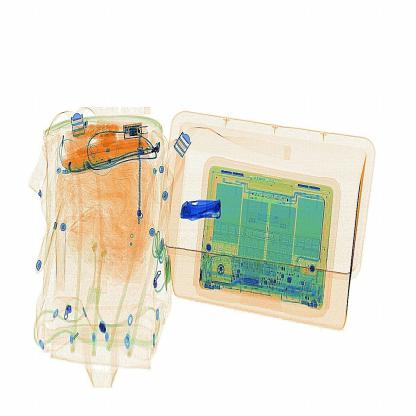knife: (178, 192, 226, 224)
